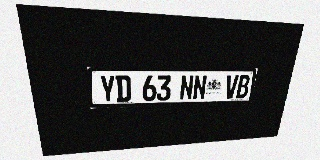3: (157, 75, 171, 101)
6: (142, 75, 157, 101)
B: (236, 75, 251, 98)
D: (115, 75, 131, 102)
N: (179, 75, 194, 100), (192, 75, 207, 100)
V: (224, 75, 239, 99)
Y: (99, 75, 116, 103)
